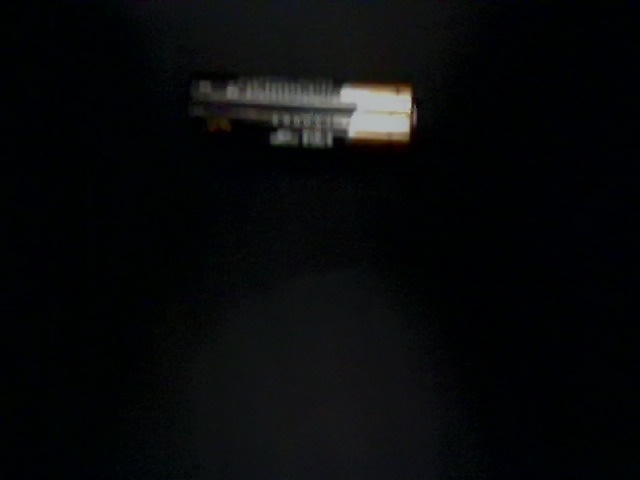QTLJ: (472, 193, 639, 378)
